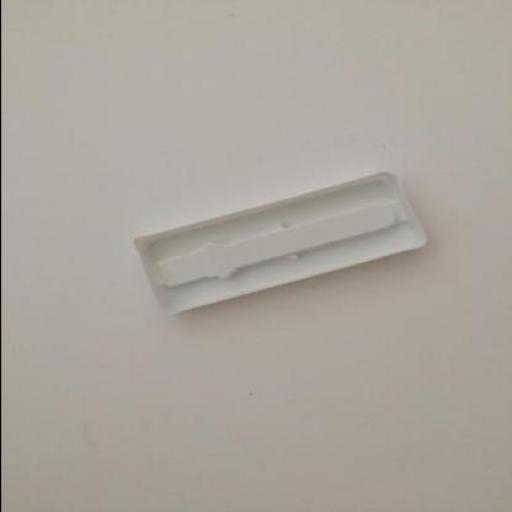plastic: (134, 170, 426, 312)
